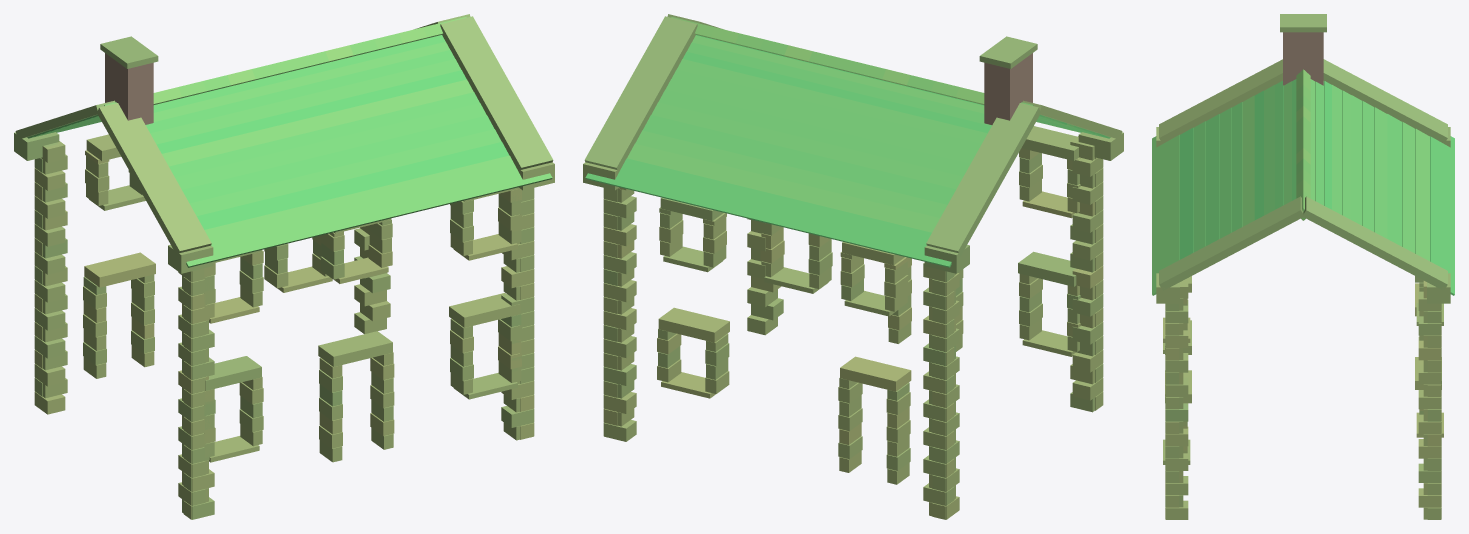
Rendered from SM_Bld_108_Stone.glb.
3 views of the same model, side by side, from view 1: azimuth 30°, elevation 25°; view 2: azimuth 150°, elevation 25°; view 3: azimuth 270°, elevation 25° (orthographic). The views are drawn at different scales.
Parts seen in each view (by area): view 1: SM_Bld_108_Stone; view 2: SM_Bld_108_Stone; view 3: SM_Bld_108_Stone.
Part boxes in pixels (x1=…): SM_Bld_108_Stone: x1=14, y1=14, x2=554, y2=519; SM_Bld_108_Stone: x1=583, y1=14, x2=1123, y2=519; SM_Bld_108_Stone: x1=1152, y1=14, x2=1454, y2=519.
Size of the model in its own units: 8.39 by 8.77 by 6.7.
